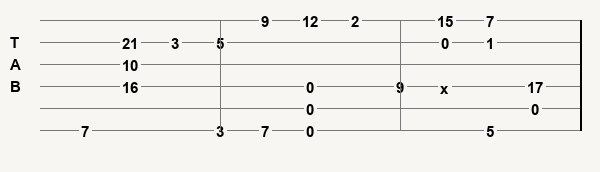0: (306, 79, 318, 94), (306, 123, 318, 138), (306, 101, 318, 116), (441, 35, 453, 50), (531, 101, 543, 116)
1: (486, 35, 498, 50)
10: (122, 57, 142, 72)
12: (302, 13, 322, 28)
15: (437, 13, 457, 28)
16: (122, 79, 142, 94)
17: (527, 79, 547, 94)
2: (351, 13, 363, 28)
21: (122, 35, 142, 50)
3: (171, 35, 183, 50), (216, 123, 228, 138)
5: (216, 35, 228, 50), (486, 123, 498, 138)
7: (81, 123, 93, 138), (261, 123, 273, 138), (486, 13, 498, 28)
9: (261, 13, 273, 28), (396, 79, 408, 94)
x: (440, 80, 453, 92)
